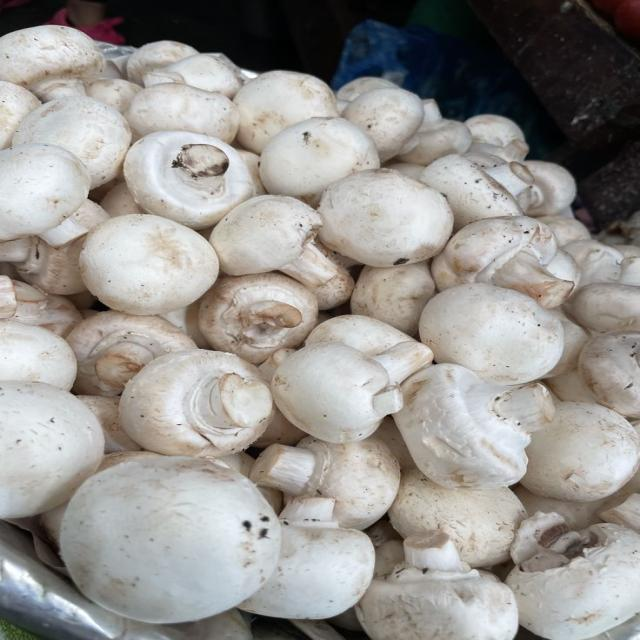champignon mushrooms: (60, 457, 280, 622), (394, 364, 554, 489), (356, 530, 518, 639), (507, 513, 639, 639), (120, 350, 273, 457), (240, 498, 374, 619), (272, 341, 432, 442), (210, 196, 353, 308), (420, 284, 563, 384), (0, 381, 104, 518), (80, 215, 218, 315), (250, 437, 399, 529), (389, 470, 526, 567), (431, 216, 576, 307), (318, 169, 453, 266), (125, 132, 253, 229), (521, 402, 639, 501), (67, 311, 195, 397), (14, 96, 131, 188), (200, 273, 317, 364), (260, 118, 379, 205), (14, 200, 109, 294), (0, 144, 90, 242), (420, 154, 533, 230), (234, 71, 338, 153), (0, 25, 105, 101), (124, 83, 239, 142), (351, 262, 435, 335), (342, 88, 424, 161), (0, 320, 76, 390), (578, 331, 639, 418), (396, 100, 472, 167), (0, 276, 82, 337), (142, 54, 244, 98), (514, 485, 610, 530), (306, 315, 413, 355), (77, 396, 141, 454), (565, 283, 639, 332), (127, 41, 198, 84), (545, 309, 589, 378), (525, 160, 576, 215), (563, 240, 624, 285), (0, 81, 40, 149), (160, 301, 210, 349), (253, 404, 306, 448), (465, 115, 525, 146), (87, 79, 140, 113), (536, 215, 590, 247), (336, 77, 397, 103), (100, 182, 145, 217)
